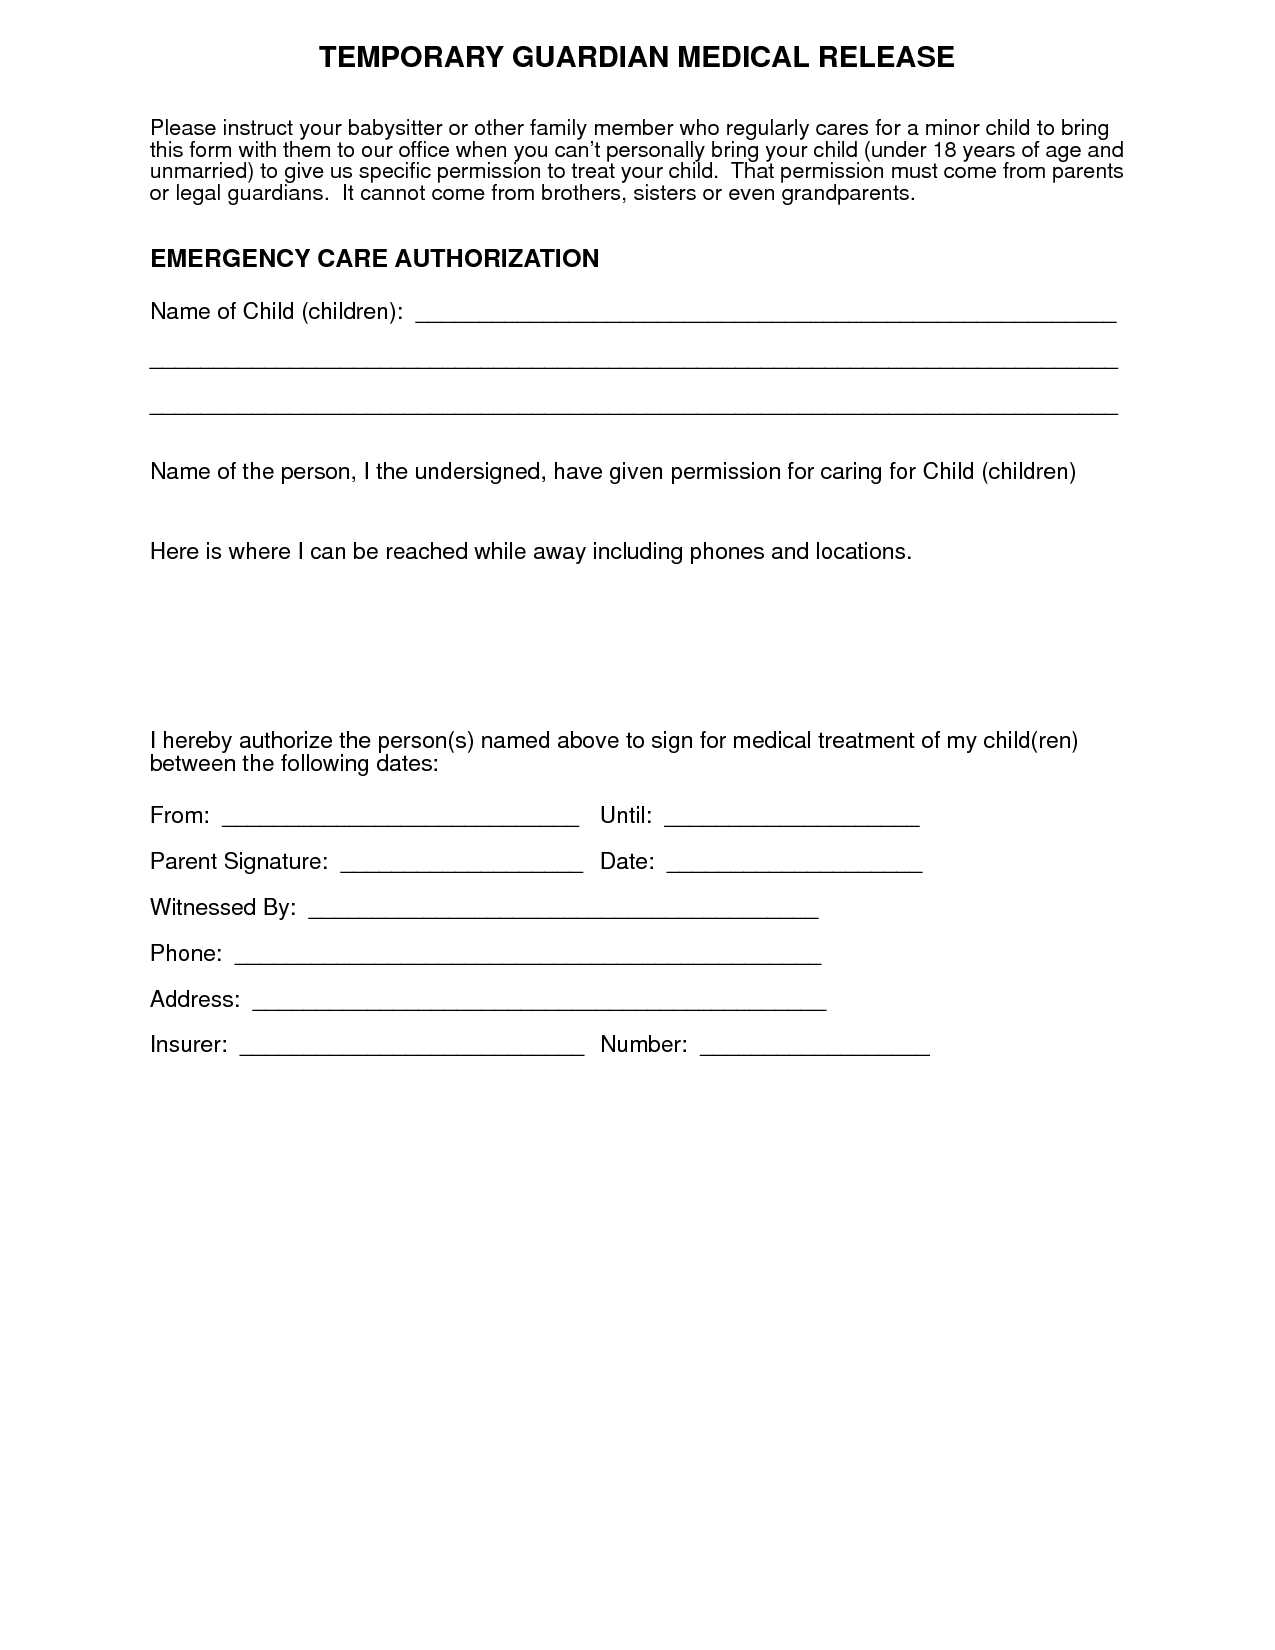textline: (406, 293, 1129, 339), (130, 398, 1142, 430), (138, 352, 1134, 383), (240, 994, 848, 1025), (300, 905, 828, 936), (229, 954, 836, 976), (232, 1034, 591, 1070), (333, 844, 600, 887), (214, 809, 592, 838), (690, 1039, 952, 1077), (655, 858, 936, 887), (658, 816, 933, 844)
